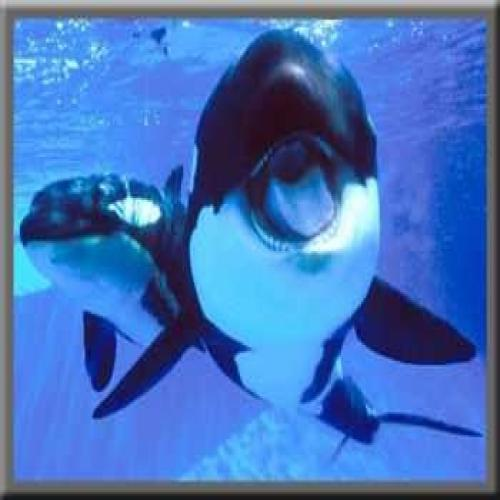killer_whale-endangered: (166, 10, 437, 457), (16, 147, 210, 366)
